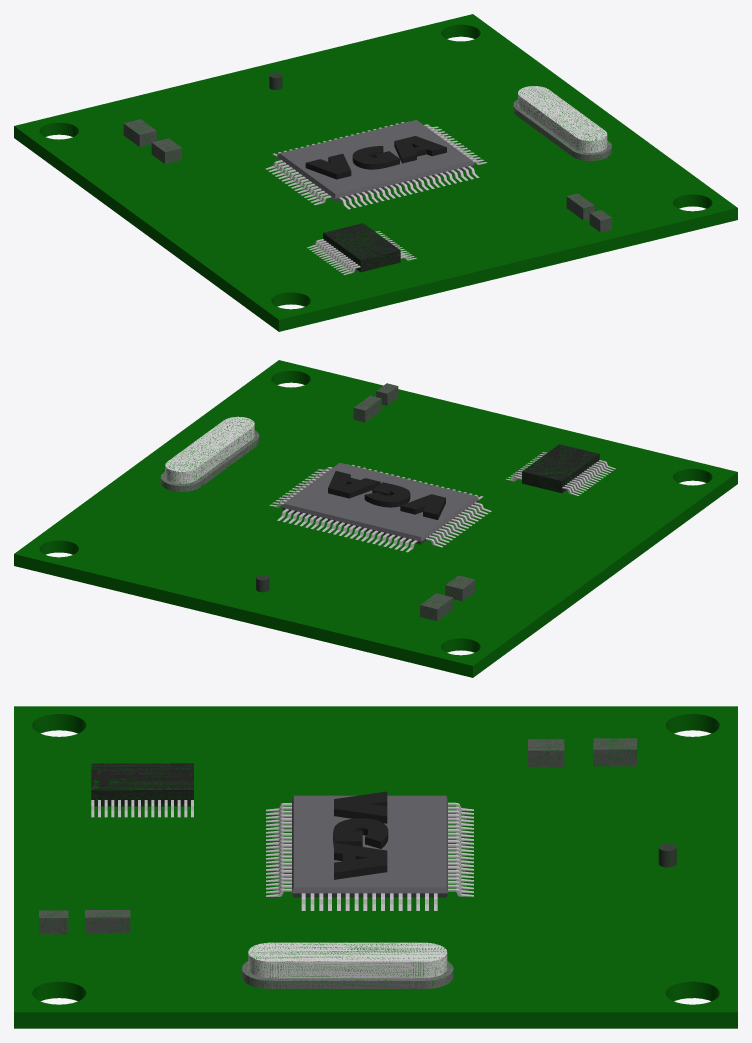
The model's file is 6.vga.dae.
3 views of the same model, one above another, from view 1: azimuth 30°, elevation 25°; view 2: azimuth 150°, elevation 25°; view 3: azimuth 270°, elevation 25° (orthographic). The views are drawn at different scales.
Visible parts, largest first — view 1: SketchUp (×7), TSSOP_Package, VGA (×3); view 2: SketchUp (×7), TSSOP_Package, VGA (×3); view 3: SketchUp (×12), TSSOP_Package, VGA (×3).
Boxes of the visible parts, bbox=[...] form: SketchUp (×7): bbox=[14, 14, 737, 331]; TSSOP_Package: bbox=[278, 120, 474, 201]; VGA (×3): bbox=[305, 136, 446, 179]; SketchUp (×7): bbox=[14, 360, 737, 677]; TSSOP_Package: bbox=[282, 463, 478, 544]; VGA (×3): bbox=[328, 471, 445, 519]; SketchUp (×12): bbox=[14, 706, 737, 1028]; TSSOP_Package: bbox=[292, 795, 447, 897]; VGA (×3): bbox=[333, 791, 388, 879].
Size of the model in its own units: 3.15 by 3.15 by 0.1969.
